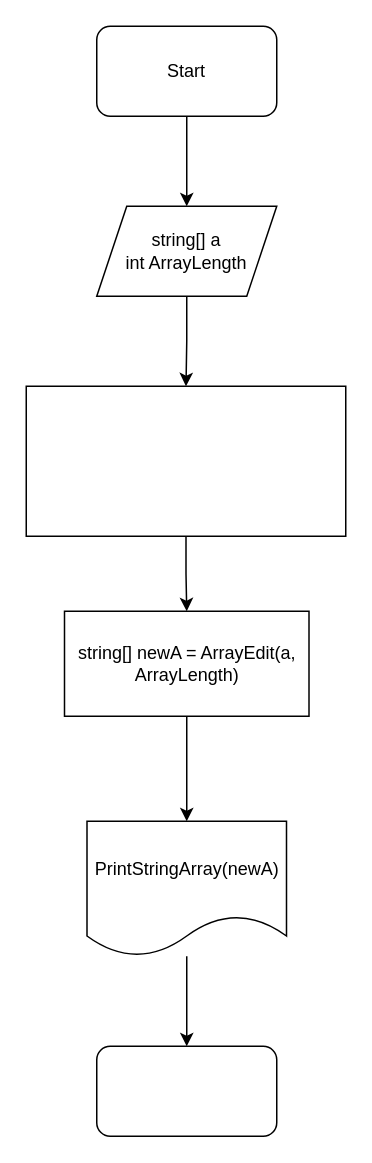
The diagram is 372 pixels wide and 1163 high, and some of its shapes have lost their labels. Each missing label, with the centre of its shape:
"end" goes at (x=186, y=1090).
"int ArrayLength = SumQualifiedElements(a)" goes at (x=185, y=460).
